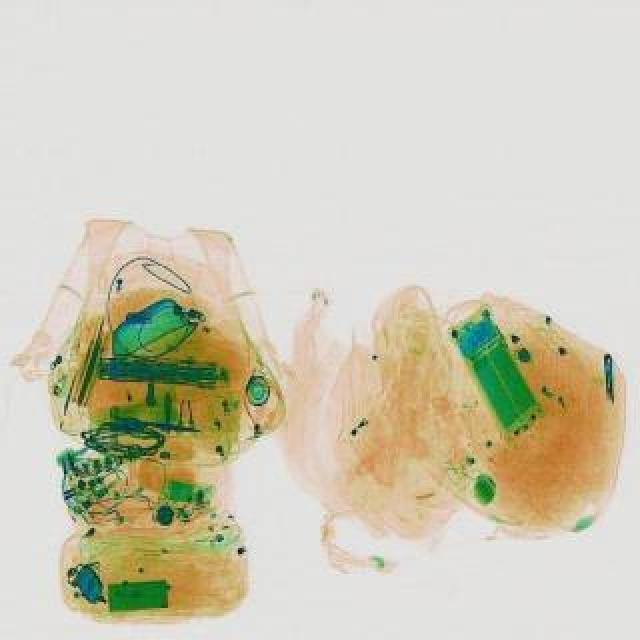knife: (108, 410, 204, 438)
pliers: (602, 352, 614, 402)
